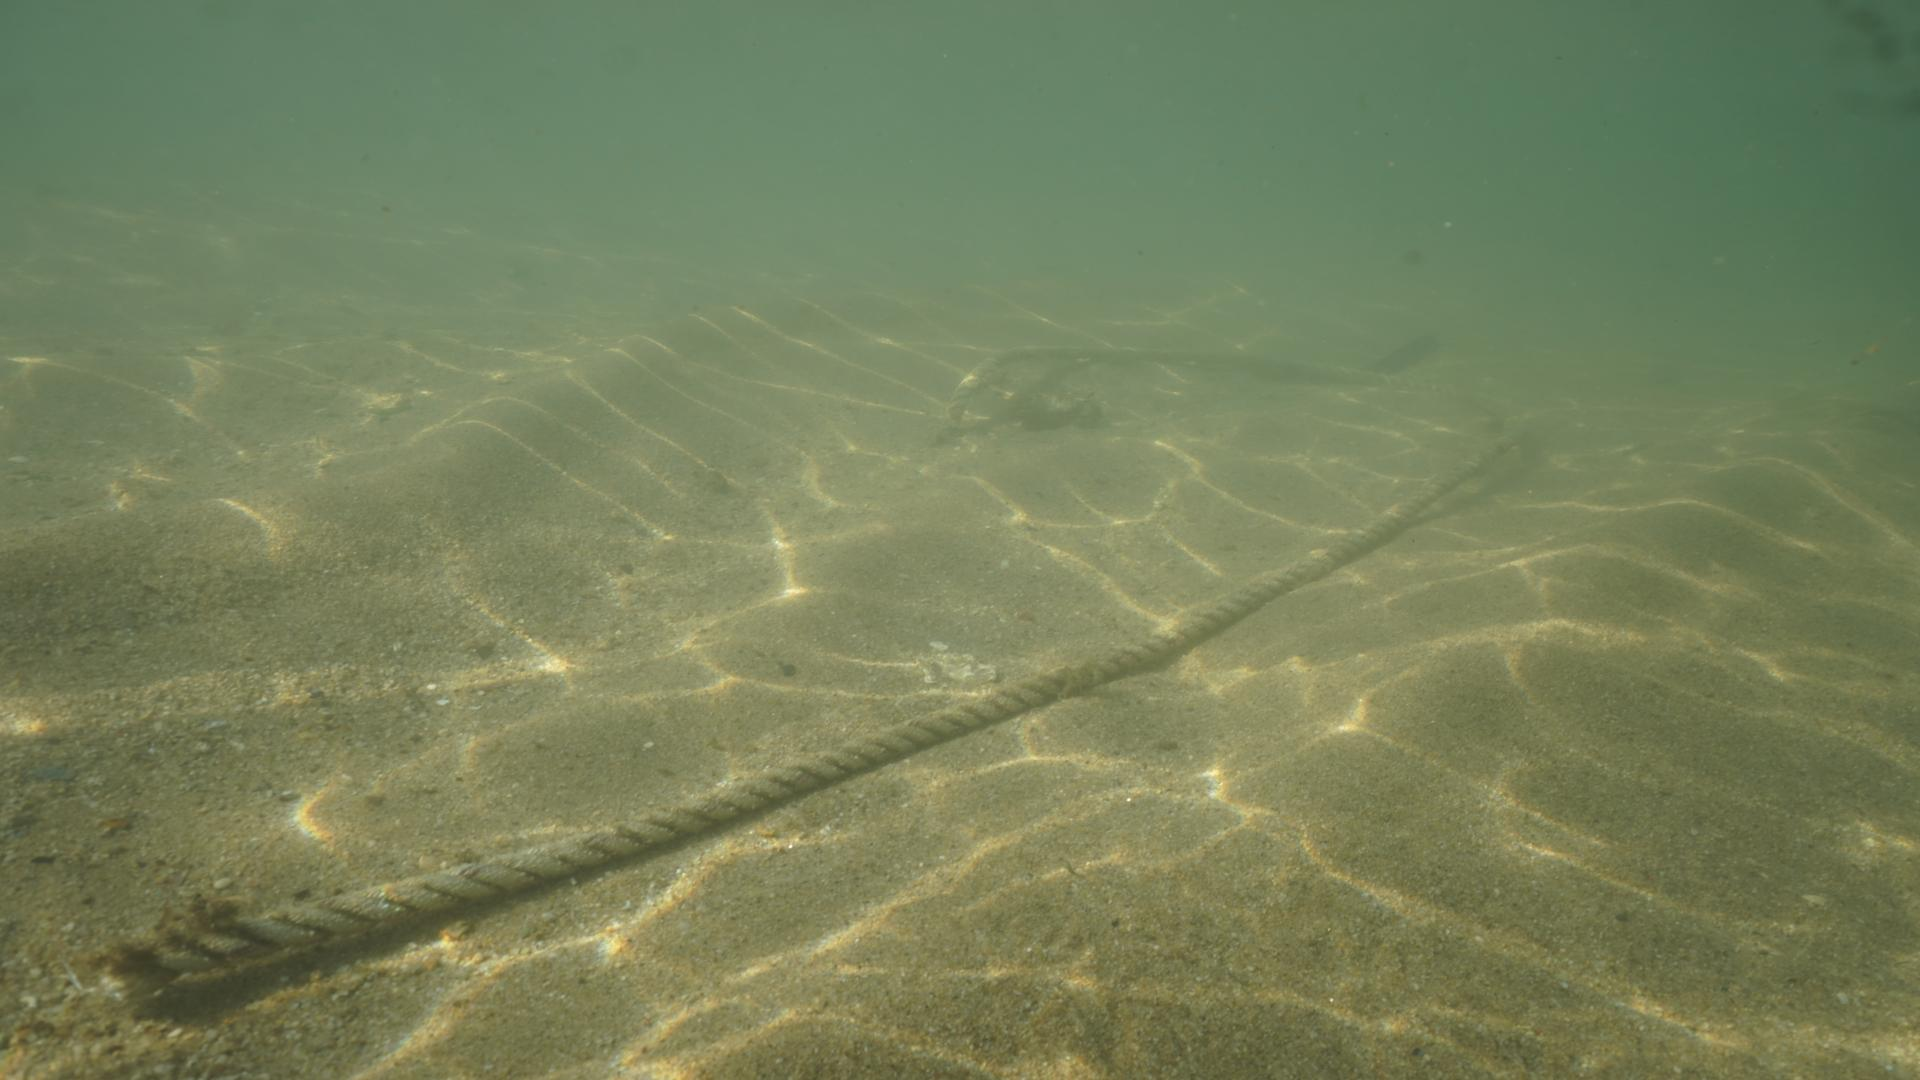rope: (164, 402, 1564, 971)
